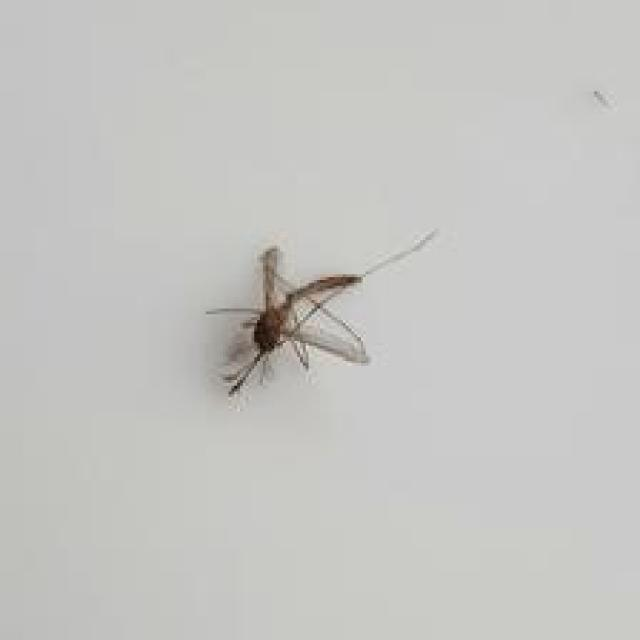Culex: (204, 227, 439, 399)
